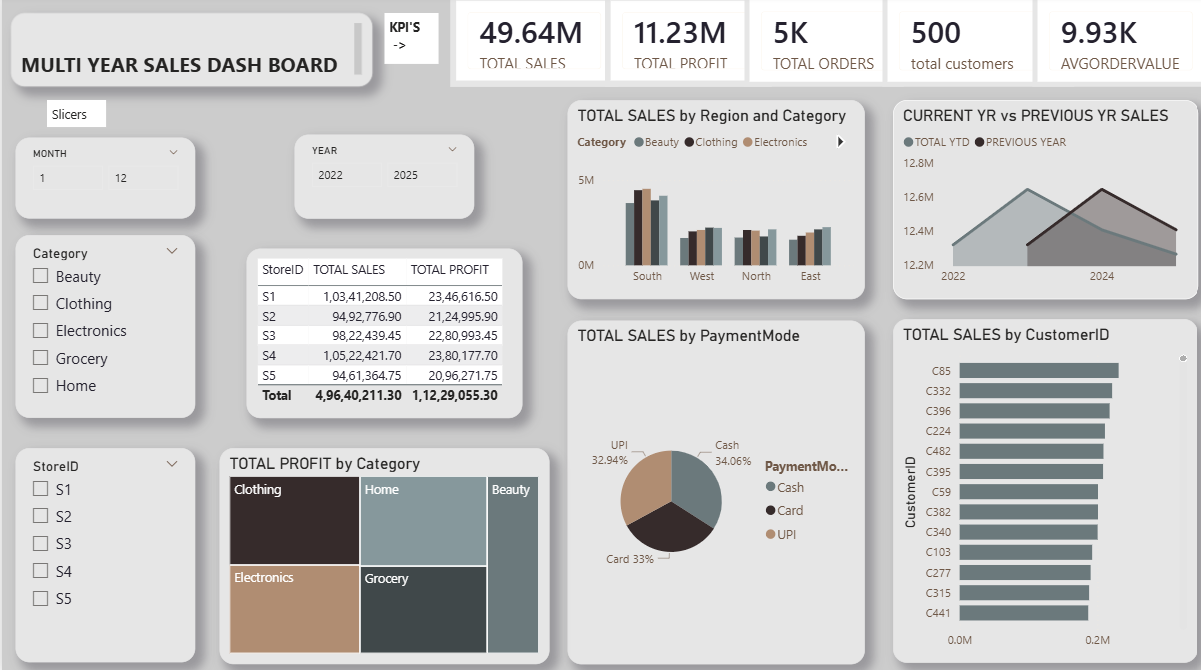

The dashboard page shown, as its layout file describes it:
{"tool":"powerbi","page":{"name":"Page 3","canvas":[1280,720],"ordinal":2},"visuals":[{"type":"textbox","box":[9.5,19.1,383.3,77.9],"z":0},{"type":"cardVisual","fields":{"Data":["FACT SALES.TOTAL SALES"]},"box":[475.6,0,178.1,97],"z":1000},{"type":"cardVisual","fields":{"Data":["FACT SALES.TOTAL PROFIT"]},"box":[639.4,0,176.6,97],"z":2000},{"type":"cardVisual","fields":{"Data":["FACT SALES.TOTAL ORDERS"]},"box":[787.4,0,168.6,97],"z":3000},{"type":"cardVisual","fields":{"Data":["FACT SALES.total customers"]},"box":[933.7,0,203.6,97],"z":4000},{"type":"textbox","box":[405.6,19.1,57.3,54.1],"z":5000},{"type":"cardVisual","fields":{"Data":["FACT SALES.AVGORDERVALUE"]},"box":[1092.7,0,187.7,97],"z":6000},{"type":"slicer","fields":{"Values":["DIM CALENDER.YEAR"]},"box":[310.2,147.9,190.9,89.1],"z":7000},{"type":"slicer","fields":{"Values":["DIM CALENDER.MONTH"]},"box":[14.3,151.1,190.9,85.9],"z":8000},{"type":"slicer","fields":{"Values":["DIM PRODUCT.Category"]},"box":[14.3,254.5,190.9,194.1],"z":9000},{"type":"textbox","box":[47.2,111.5,62.4,28.3],"z":10000},{"type":"areaChart","title":"CURRENT YR vs PREVIOUS YR SALES","fields":{"Category":["DIM CALENDER.YEAR"],"Y":["FACT SALES.TOTAL YTD","FACT SALES.PREVIOUS YEAR"]},"box":[944.8,111.3,324.5,211.6],"z":11000},{"type":"slicer","fields":{"Values":["DIM STORE.StoreID"]},"box":[14.3,480.4,190.9,227.5],"z":12000},{"type":"barChart","fields":{"Y":["FACT SALES.TOTAL SALES"],"Category":["DIM CUSTOMER.CustomerID"]},"box":[944.9,343.9,323.2,364.7],"z":13000},{"type":"clusteredColumnChart","fields":{"Category":["DIM CUSTOMER.Region"],"Series":["DIM PRODUCT.Category"],"Y":["FACT SALES.TOTAL SALES"]},"box":[599.1,111.5,315.6,211.7],"z":14000},{"type":"pieChart","fields":{"Category":["FACT SALES.PaymentMode"],"Y":["FACT SALES.TOTAL SALES"]},"box":[599.1,345.8,315.6,364.7],"z":15000},{"type":"treemap","fields":{"Group":["DIM PRODUCT.Category"],"Values":["FACT SALES.TOTAL PROFIT"]},"box":[230.6,480.4,349.9,229],"z":16000},{"type":"tableEx","fields":{"Values":["DIM STORE.StoreID","FACT SALES.TOTAL SALES","FACT SALES.TOTAL PROFIT"]},"box":[259.3,268.8,292.7,179.7],"z":17000}]}

Visuals, with their boxes in screenshot pixels (x1, y1, x2, y2), scaled from the page's 1280x720 canvas onto the 1201x670 screenshot:
textbox: 9:18:369:90
cardVisual - FACT SALES.TOTAL SALES: 446:0:613:90
cardVisual - FACT SALES.TOTAL PROFIT: 600:0:766:90
cardVisual - FACT SALES.TOTAL ORDERS: 739:0:897:90
cardVisual - FACT SALES.total customers: 876:0:1067:90
textbox: 381:18:434:68
cardVisual - FACT SALES.AVGORDERVALUE: 1025:0:1200:90
slicer - DIM CALENDER.YEAR: 291:138:470:221
slicer - DIM CALENDER.MONTH: 13:141:193:221
slicer - DIM PRODUCT.Category: 13:237:193:417
textbox: 44:104:103:130
"CURRENT YR vs PREVIOUS YR SALES" areaChart: 886:104:1191:300
slicer - DIM STORE.StoreID: 13:447:193:659
barChart - FACT SALES.TOTAL SALES x DIM CUSTOMER.CustomerID: 887:320:1190:659
clusteredColumnChart - DIM CUSTOMER.Region x DIM PRODUCT.Category: 562:104:858:301
pieChart - FACT SALES.PaymentMode x FACT SALES.TOTAL SALES: 562:322:858:661
treemap - DIM PRODUCT.Category x FACT SALES.TOTAL PROFIT: 216:447:545:660
tableEx - DIM STORE.StoreID x FACT SALES.TOTAL SALES: 243:250:518:417
